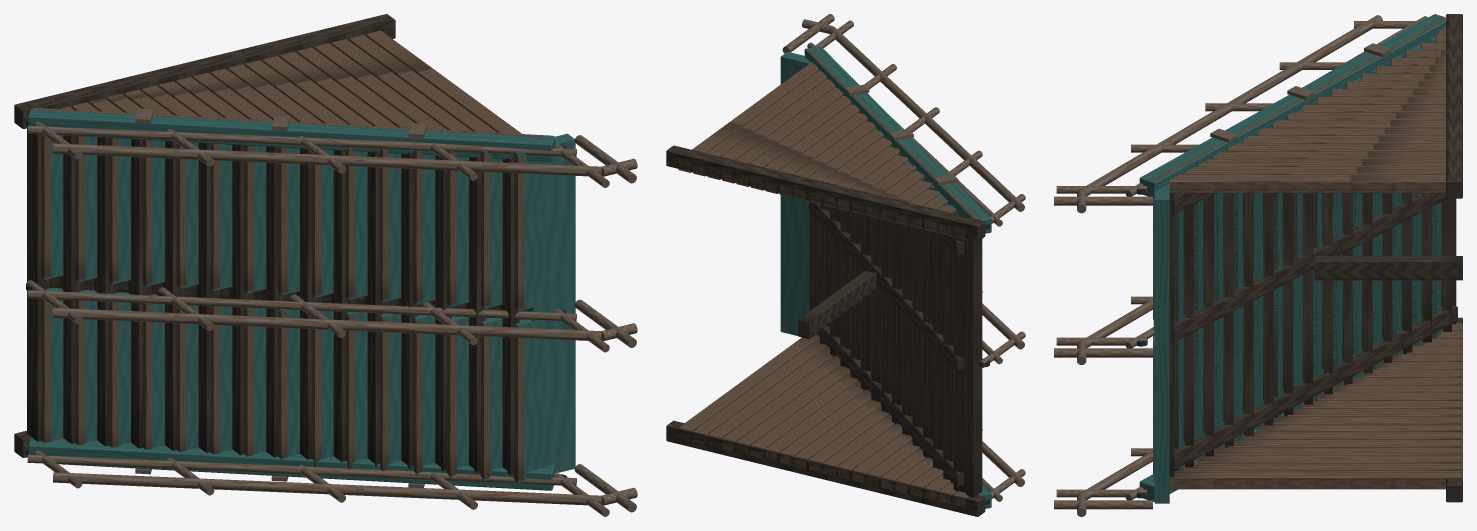
The model's file is SM_IndustrialStaircase.obj.
The picture shows the model from 3 angles, left to right: view 1: azimuth 30°, elevation 25°; view 2: azimuth 150°, elevation 25°; view 3: azimuth 270°, elevation 25°; orthographic projection. The views are drawn at different scales.
Parts seen in each view (by area): view 1: SM_IndustrialStaircase_Flight, SM_IndustrialStaircase_Sides, SM_IndustrialStaircase_Rails, SM_IndustrialStaircase_Supports; view 2: SM_IndustrialStaircase_Sides, SM_IndustrialStaircase_Supports, SM_IndustrialStaircase_Flight, SM_IndustrialStaircase_Rails; view 3: SM_IndustrialStaircase_Sides, SM_IndustrialStaircase_Supports, SM_IndustrialStaircase_Flight, SM_IndustrialStaircase_Rails.
Boxes of the visible parts, left/top/right/bottom form: SM_IndustrialStaircase_Flight: left=27, top=128, right=575, bottom=482; SM_IndustrialStaircase_Sides: left=14, top=14, right=554, bottom=490; SM_IndustrialStaircase_Rails: left=26, top=117, right=637, bottom=516; SM_IndustrialStaircase_Supports: left=46, top=276, right=527, bottom=320; SM_IndustrialStaircase_Sides: left=666, top=46, right=991, bottom=516; SM_IndustrialStaircase_Supports: left=798, top=202, right=965, bottom=492; SM_IndustrialStaircase_Flight: left=780, top=51, right=982, bottom=497; SM_IndustrialStaircase_Rails: left=782, top=14, right=1025, bottom=504; SM_IndustrialStaircase_Sides: left=1139, top=14, right=1462, bottom=502; SM_IndustrialStaircase_Supports: left=1169, top=193, right=1462, bottom=477; SM_IndustrialStaircase_Flight: left=1153, top=34, right=1456, bottom=503; SM_IndustrialStaircase_Rails: left=1054, top=15, right=1427, bottom=516.
Bounding box in the file's own units: 5.38 × 4.31 × 4.88.
Materials: 5 (5 with a texture image).
